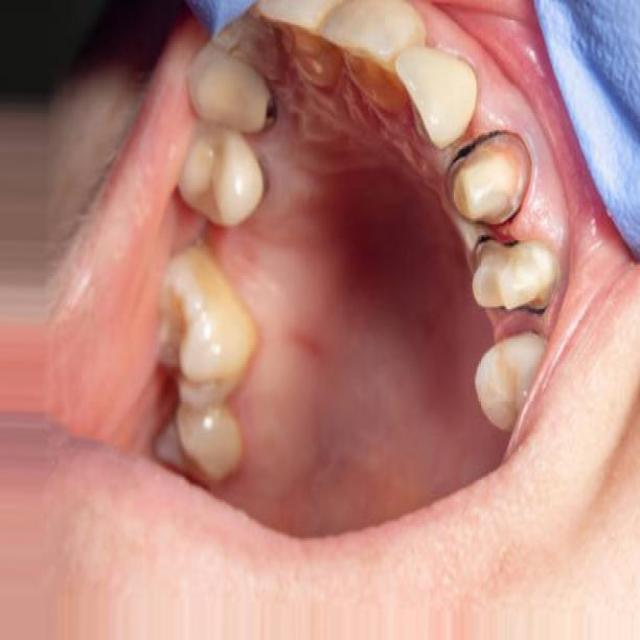caries: (465, 232, 561, 324), (444, 128, 536, 223), (247, 84, 287, 140)
